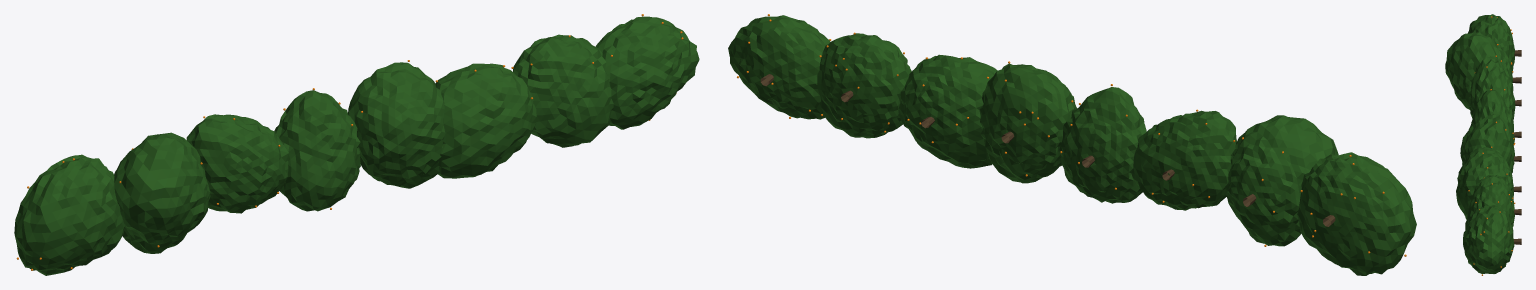
The model's file is citrus_run8_c_fruit.obj.
3 views of the same model, side by side, from view 1: azimuth 30°, elevation 25°; view 2: azimuth 150°, elevation 25°; view 3: azimuth 270°, elevation 25° (orthographic). The views are drawn at different scales.
Parts seen in each view (by area): view 1: canopy; view 2: canopy, trunk, fruit; view 3: canopy, trunk, fruit.
Boxes of the visible parts, x1,y1,x2,y2 form: canopy: (14,16,699,275); canopy: (728,15,1416,275); trunk: (760,74,1335,226); fruit: (737,14,1406,256); canopy: (1445,14,1515,274); trunk: (1512,50,1521,244); fruit: (1468,16,1515,275).
Bounding box in the file's own units: 25.44 × 4.49 × 3.56.
